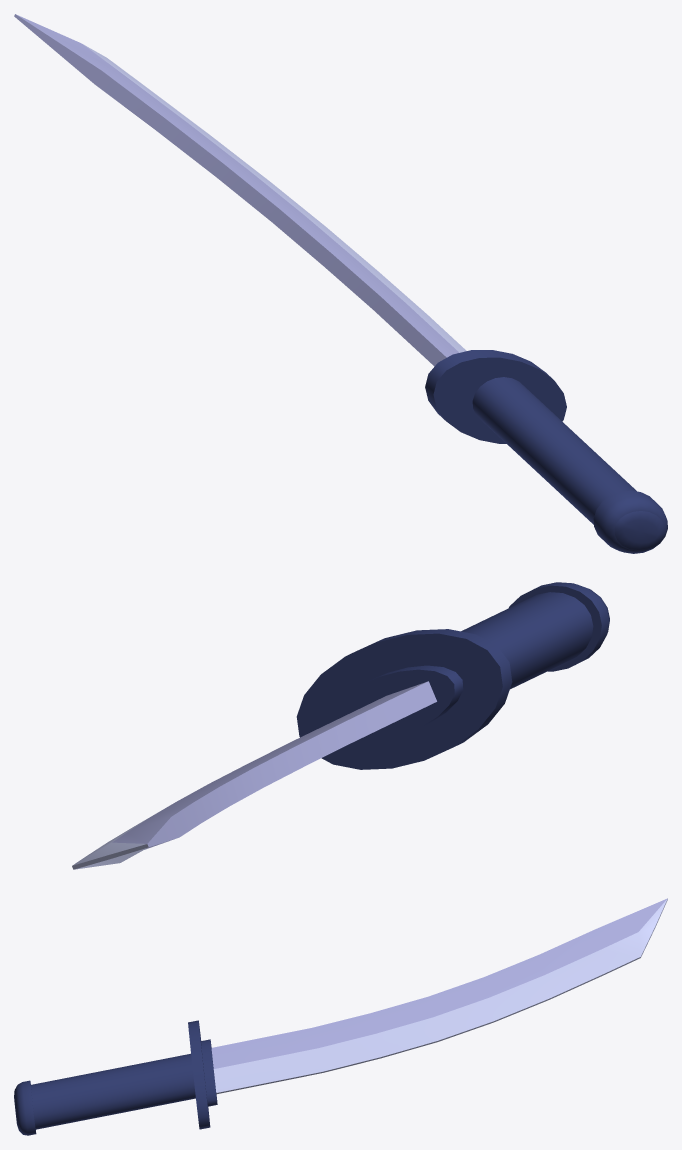
The model's file is High Poly sword 1.fbx.
The picture shows the model from 3 angles, top to bottom: view 1: azimuth 30°, elevation 25°; view 2: azimuth 150°, elevation 25°; view 3: azimuth 270°, elevation 25°; orthographic projection. The views are drawn at different scales.
Visible parts, largest first — view 1: Katana_ninja; view 2: Katana_ninja; view 3: Katana_ninja.
Boxes of the visible parts, <box> form: Katana_ninja: <box>14,14,667,553</box>; Katana_ninja: <box>72,582,609,869</box>; Katana_ninja: <box>14,898,667,1135</box>.
Bounding box in the file's own units: 107 × 115 × 389.
